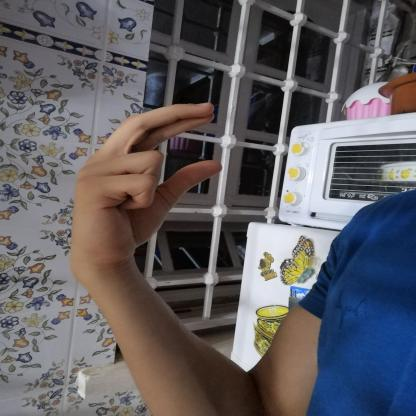DHELL: (54, 90, 233, 278)
